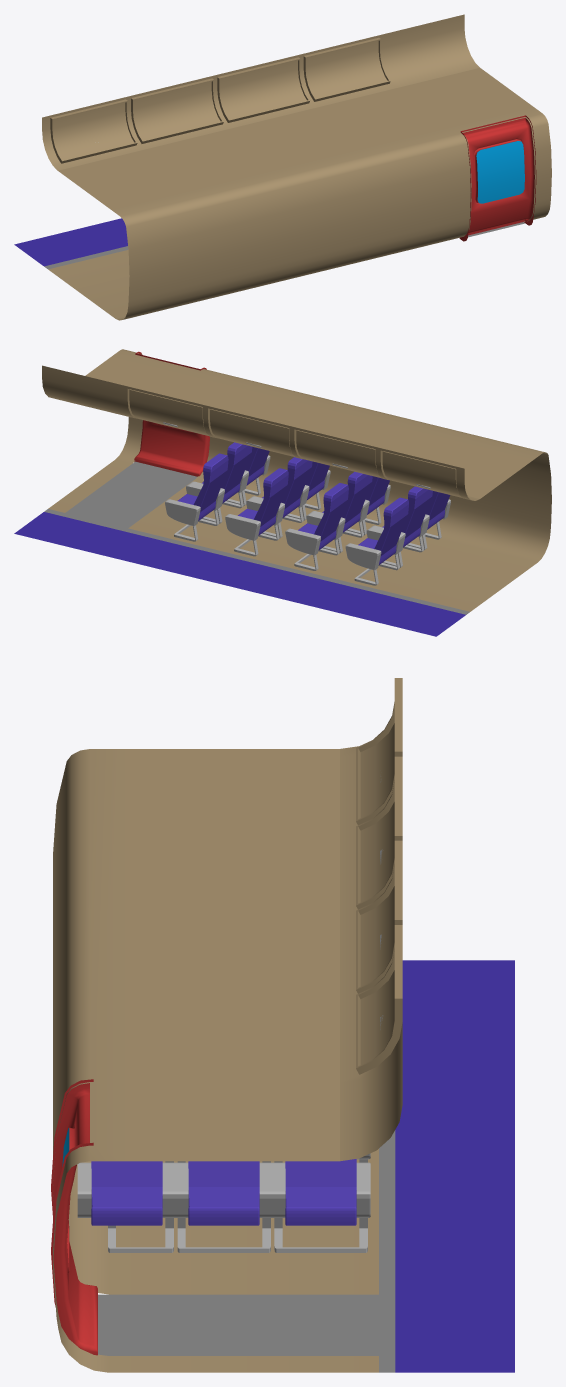
The model's file is Plane_Section.fbx.
3 views of the same model, one above another, from view 1: azimuth 30°, elevation 25°; view 2: azimuth 150°, elevation 25°; view 3: azimuth 270°, elevation 25° (orthographic). The views are drawn at different scales.
Parts seen in each view (by area): view 1: Circle; view 2: Circle; view 3: Circle.
Part boxes in pixels (<box>): Circle: <box>14,14,551,320</box>; Circle: <box>14,349,551,636</box>; Circle: <box>51,678,514,1372</box>.
Size of the model in its own units: 26.16 by 8.8 by 12.45.
